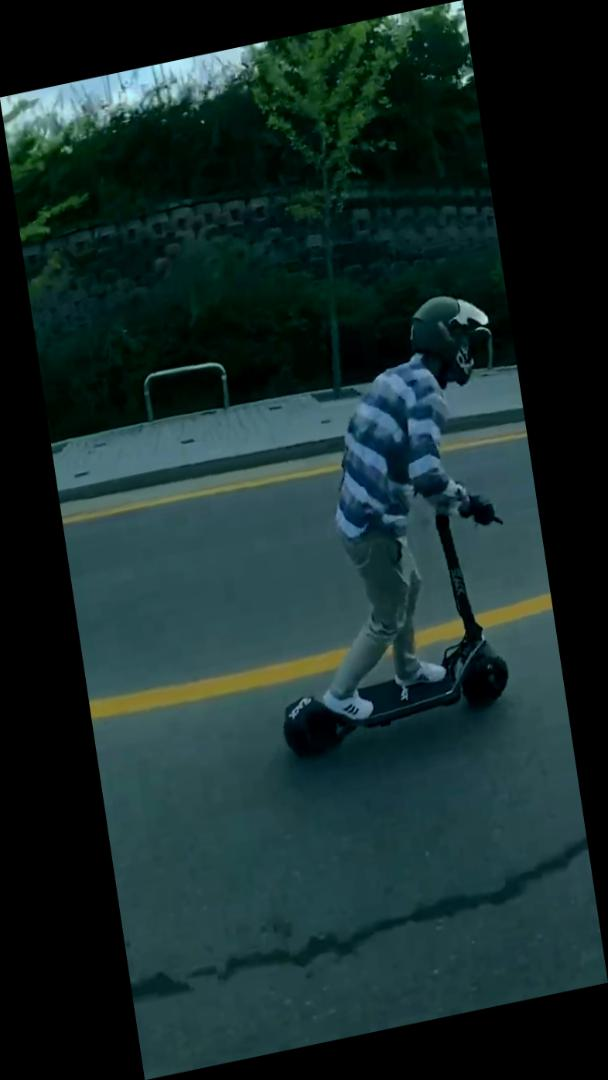helmet: (218, 282, 550, 770)
